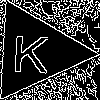K: (10, 26, 51, 73)
